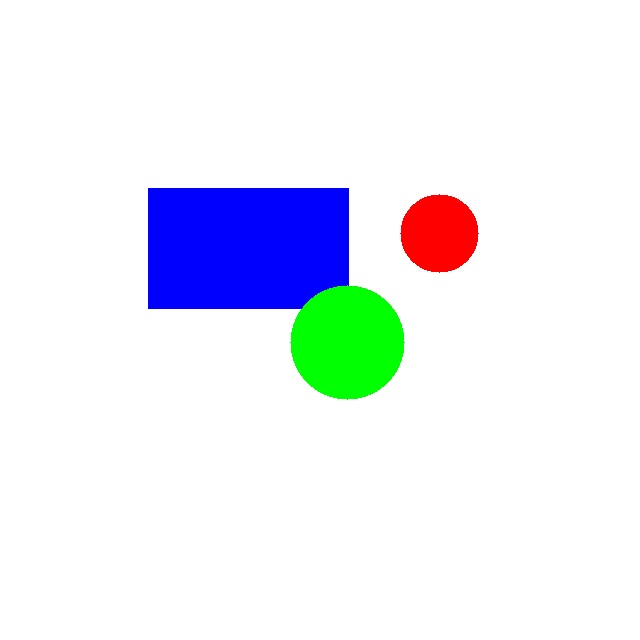cartao: (148, 188, 348, 308)
rosca_externa: (290, 285, 404, 399)
rosca_interna: (400, 194, 478, 272)
